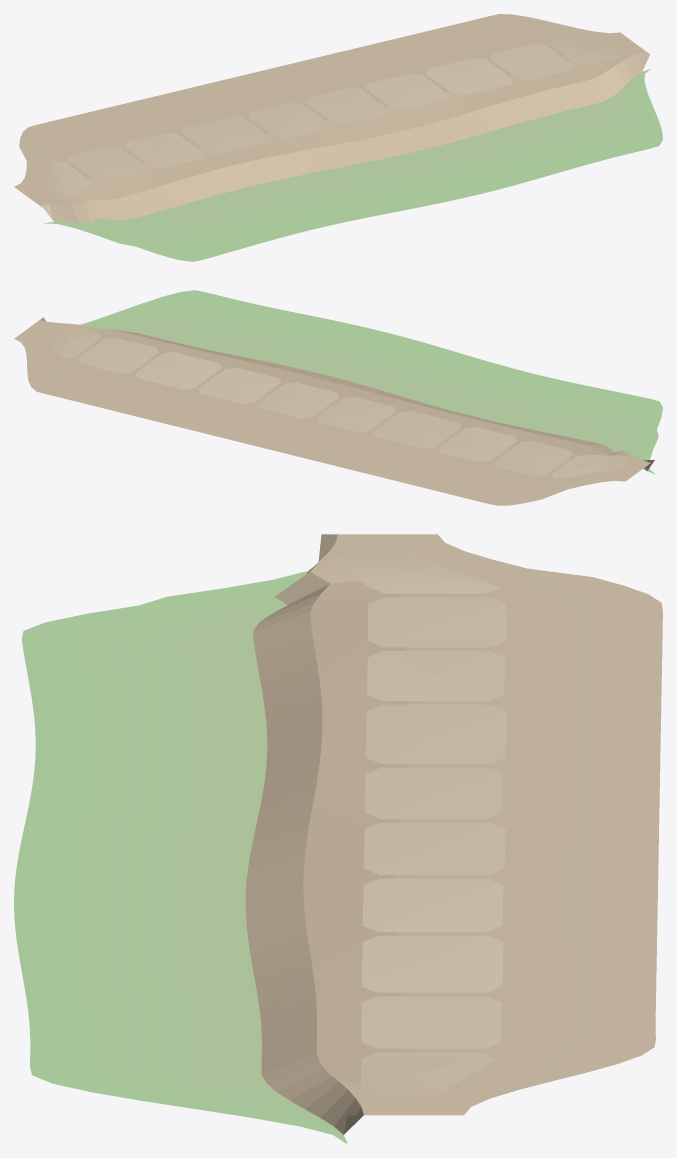
3 renders of one model, top to bottom at view 1: azimuth 30°, elevation 25°; view 2: azimuth 150°, elevation 25°; view 3: azimuth 270°, elevation 25°, orthographic. The views are drawn at different scales.
Visible parts, largest first — view 1: StoneEdgeBase, GrassEdgeTones, RoundedLimestoneSetts; view 2: StoneEdgeBase, GrassEdgeTones, RoundedLimestoneSetts; view 3: StoneEdgeBase, GrassEdgeTones, RoundedLimestoneSetts.
Boxes of the visible parts, x1,y1,x2,y2 form: StoneEdgeBase: [14, 14, 649, 223]; GrassEdgeTones: [44, 69, 662, 261]; RoundedLimestoneSetts: [41, 40, 623, 199]; StoneEdgeBase: [14, 317, 654, 505]; GrassEdgeTones: [80, 290, 662, 473]; RoundedLimestoneSetts: [41, 325, 628, 479]; StoneEdgeBase: [245, 534, 662, 1134]; GrassEdgeTones: [14, 567, 347, 1143]; RoundedLimestoneSetts: [336, 551, 507, 1096].
Size of the model in its own units: 5.08 by 0.122 by 2.4.
